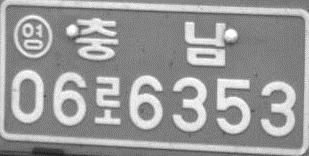0: (9, 68, 45, 124)
3: (170, 76, 208, 131), (259, 79, 295, 137)
5: (215, 76, 251, 135)
6: (127, 71, 165, 131), (51, 70, 88, 127)
로: (93, 77, 123, 127)
영: (13, 14, 53, 60)
충남_D: (74, 17, 228, 66)
